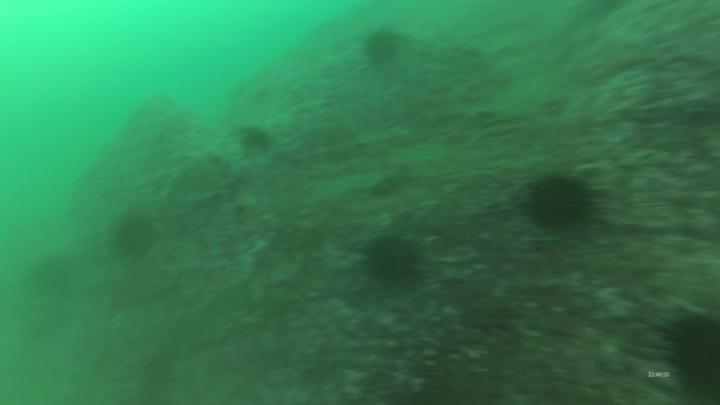echinus: (629, 304, 720, 405), (515, 166, 596, 240), (353, 236, 415, 291), (107, 207, 162, 259), (360, 29, 404, 73), (232, 124, 272, 156)
